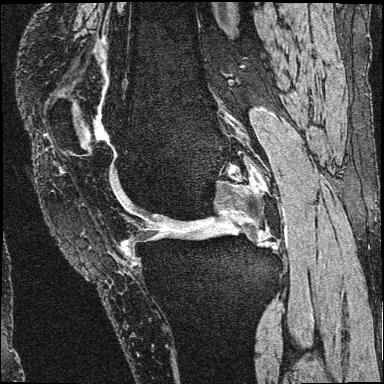SagKneeJointArea: (44, 95, 283, 295)
